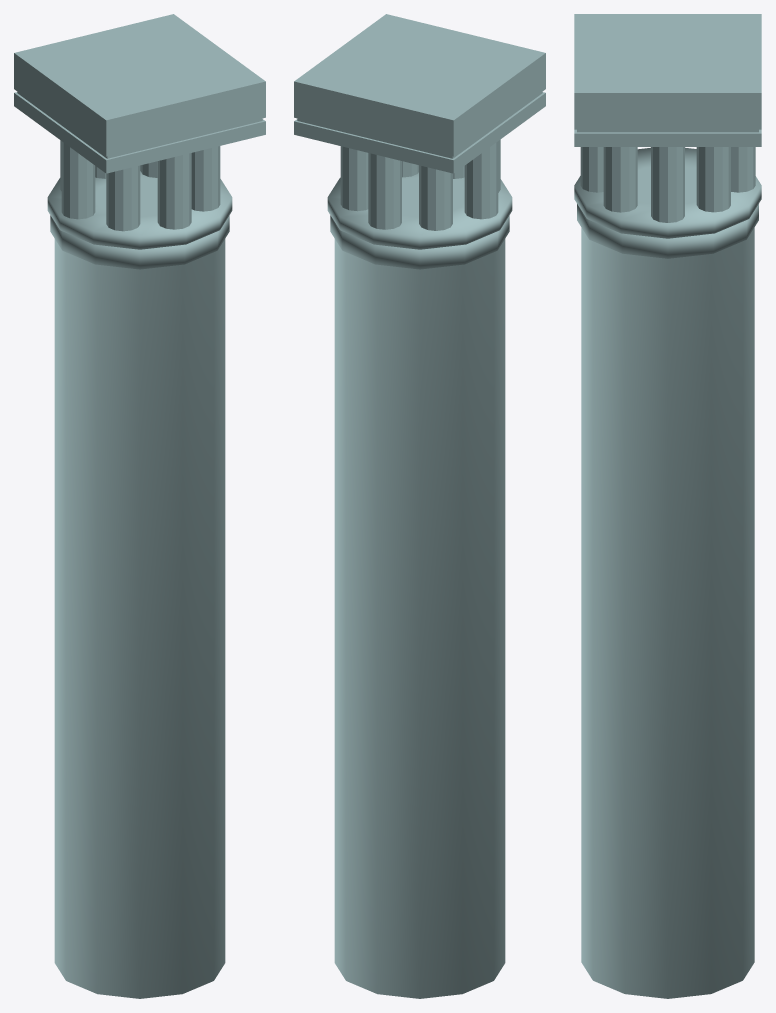
The model's file is pilar.fbx.
3 views of the same model, side by side, from view 1: azimuth 30°, elevation 25°; view 2: azimuth 150°, elevation 25°; view 3: azimuth 270°, elevation 25° (orthographic).
Parts seen in each view (by area): view 1: Pilar; view 2: Pilar; view 3: Pilar.
Part boxes in pixels (x1=…): Pilar: x1=14, y1=14, x2=265, y2=998; Pilar: x1=294, y1=14, x2=545, y2=998; Pilar: x1=574, y1=14, x2=761, y2=998.
Bounding box in the file's own units: 216 × 1157 × 216.
